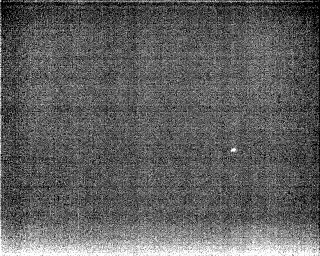AIRPLANE: (228, 145, 239, 157)
